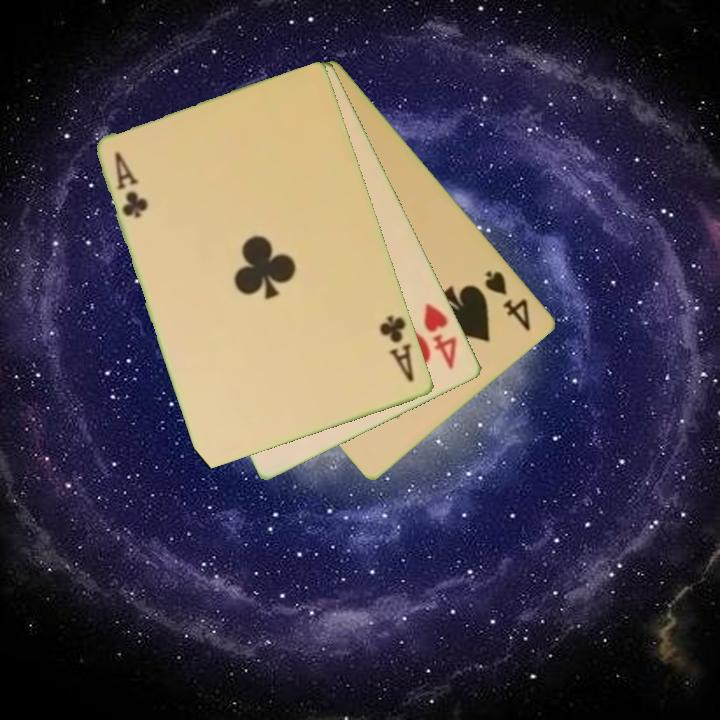4h: (420, 300, 461, 373)
4s: (481, 266, 535, 335)
Ac: (376, 312, 418, 385), (111, 148, 152, 221)
